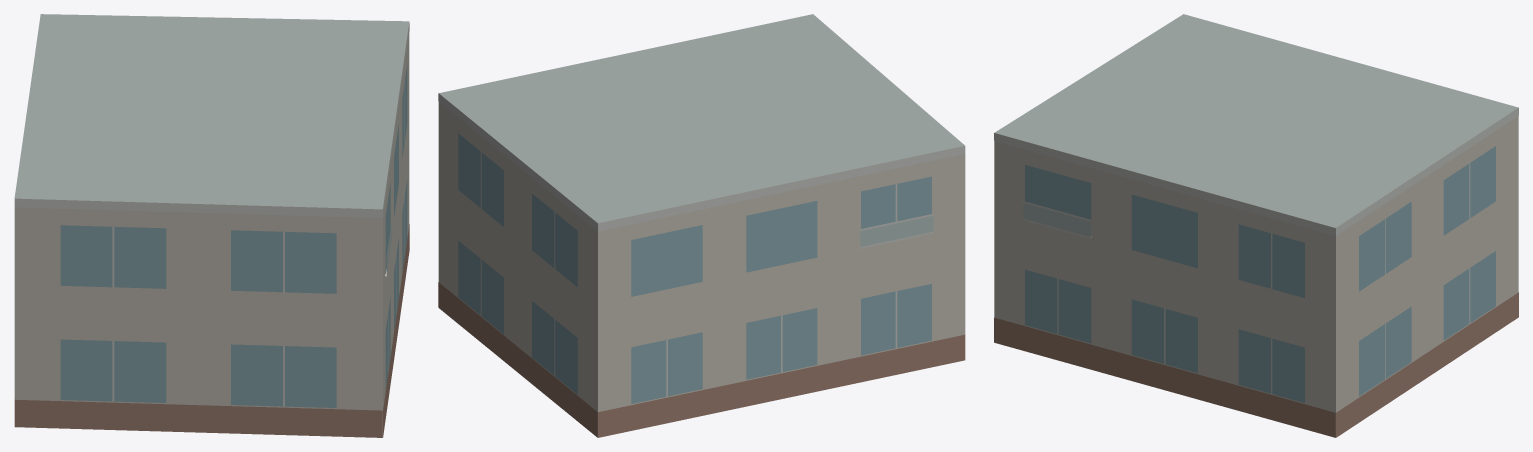
Rendered from survey-upis-32933973.glb.
3 renders of one model, left to right at view 1: azimuth 30°, elevation 25°; view 2: azimuth 150°, elevation 25°; view 3: azimuth 270°, elevation 25°, orthographic. The views are drawn at different scales.
Visible parts, largest first — view 1: survey-upis-32933973.tmp; view 2: survey-upis-32933973.tmp; view 3: survey-upis-32933973.tmp.
Boxes of the visible parts, left/top/right/bottom form: survey-upis-32933973.tmp: left=14, top=14, right=409, bottom=437; survey-upis-32933973.tmp: left=438, top=14, right=965, bottom=437; survey-upis-32933973.tmp: left=994, top=14, right=1518, bottom=437.
Bounding box in the file's own units: 14.02 × 6.4 × 14.52.
